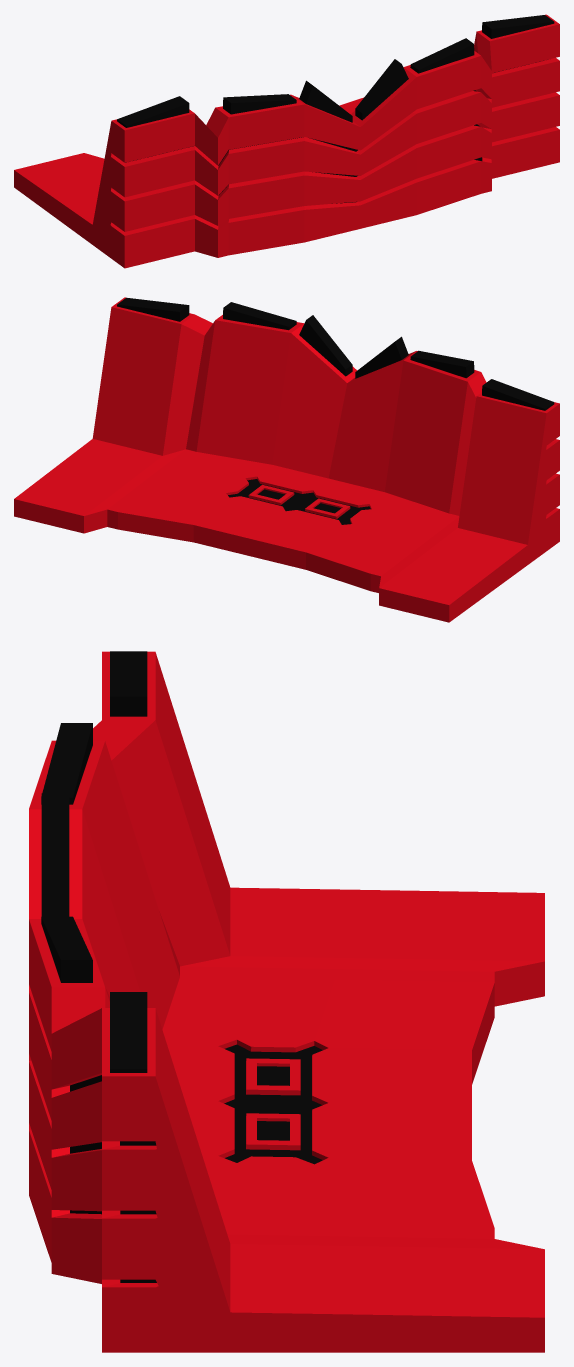
Rendered from Wall.fbx.
3 views of the same model, one above another, from view 1: azimuth 30°, elevation 25°; view 2: azimuth 150°, elevation 25°; view 3: azimuth 270°, elevation 25° (orthographic). The views are drawn at different scales.
Visible parts, largest first — view 1: Wall; view 2: Wall; view 3: Wall.
Boxes of the visible parts, x1,y1,x2,y2 form: Wall: (14, 14, 559, 268); Wall: (14, 297, 559, 622); Wall: (29, 651, 544, 1352).
Size of the model in its own units: 477 by 159 by 245.
